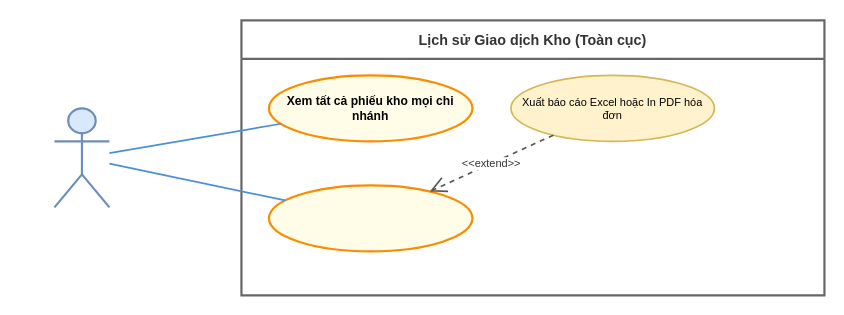
Image size: 844x315. Some labels were removed from this diagram. Here are the shapes that lost their labels. From the top down, the box of each, then its label:
(53, 107, 110, 208): Quản trị viên (ADMIN)
(267, 184, 473, 252): Xem chi tiết phiếu kho
